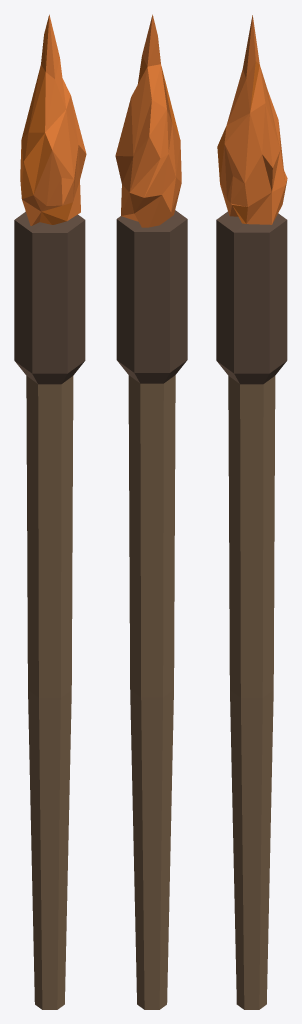
File: Torch.fbx
3 views of the same model, side by side, from view 1: azimuth 30°, elevation 25°; view 2: azimuth 210°, elevation 25°; view 3: azimuth 330°, elevation 25° (orthographic).
Parts seen in each view (by area): view 1: Torch; view 2: Torch; view 3: Torch.
Part boxes in pixels (bbox=[...]): Torch: bbox=[14, 14, 86, 1009]; Torch: bbox=[115, 14, 187, 1009]; Torch: bbox=[216, 15, 287, 1009].
Size of the model in its own units: 13.9 by 222 by 14.4.
1 material, 1 textured.
